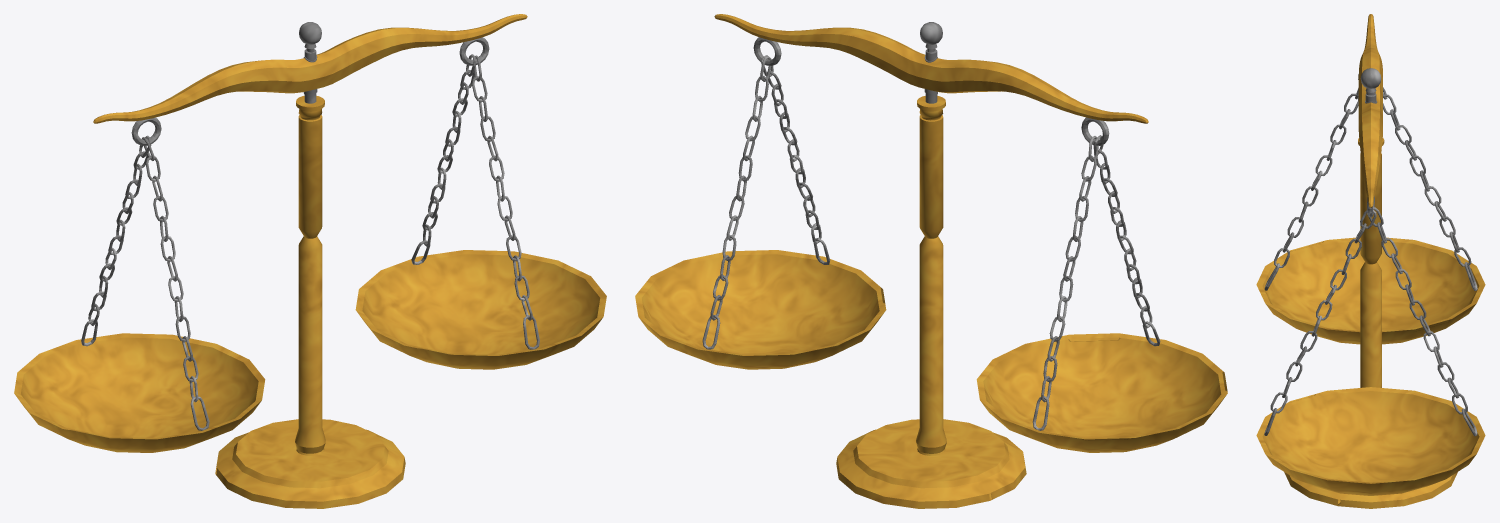
Rendered from Scale.fbx.
The picture shows the model from 3 angles, left to right: view 1: azimuth 30°, elevation 25°; view 2: azimuth 150°, elevation 25°; view 3: azimuth 270°, elevation 25°; orthographic projection. The views are drawn at different scales.
Visible parts, largest first — view 1: LeftScale, RightScale, Scale, Beam, Chains, Chains.003, Chains.001, Chains.002; view 2: LeftScale, RightScale, Scale, Beam, Chains.002, Chains.001, Chains.003, Chains; view 3: RightScale, LeftScale, Scale, Beam, Chains.001, Chains, Chains.002, Chains.003.
Boxes of the visible parts, box(x1,y1,x2,y2) form: LeftScale: box(14, 333, 265, 452); RightScale: box(355, 250, 606, 369); Scale: box(215, 22, 405, 508); Beam: box(93, 14, 527, 123); Chains: box(472, 55, 539, 349); Chains.003: box(142, 137, 209, 430); Chains.001: box(411, 54, 476, 264); Chains.002: box(81, 135, 151, 346); LeftScale: box(976, 333, 1227, 452); RightScale: box(635, 250, 886, 369); Scale: box(836, 22, 1026, 508); Beam: box(714, 14, 1148, 123); Chains.002: box(1032, 136, 1098, 430); Chains.001: box(702, 56, 771, 349); Chains.003: box(1093, 135, 1160, 346); Chains: box(761, 55, 830, 264); RightScale: box(1256, 387, 1485, 495); LeftScale: box(1256, 237, 1485, 344); Scale: box(1284, 68, 1457, 508); Beam: box(1358, 14, 1382, 207); Chains.001: box(1367, 207, 1477, 436); Chains: box(1264, 210, 1376, 435); Chains.002: box(1383, 87, 1477, 290); Chains.003: box(1264, 74, 1358, 290).
Size of what is drawn, in the model's own units: 0.6247 by 1.6 by 1.21.
